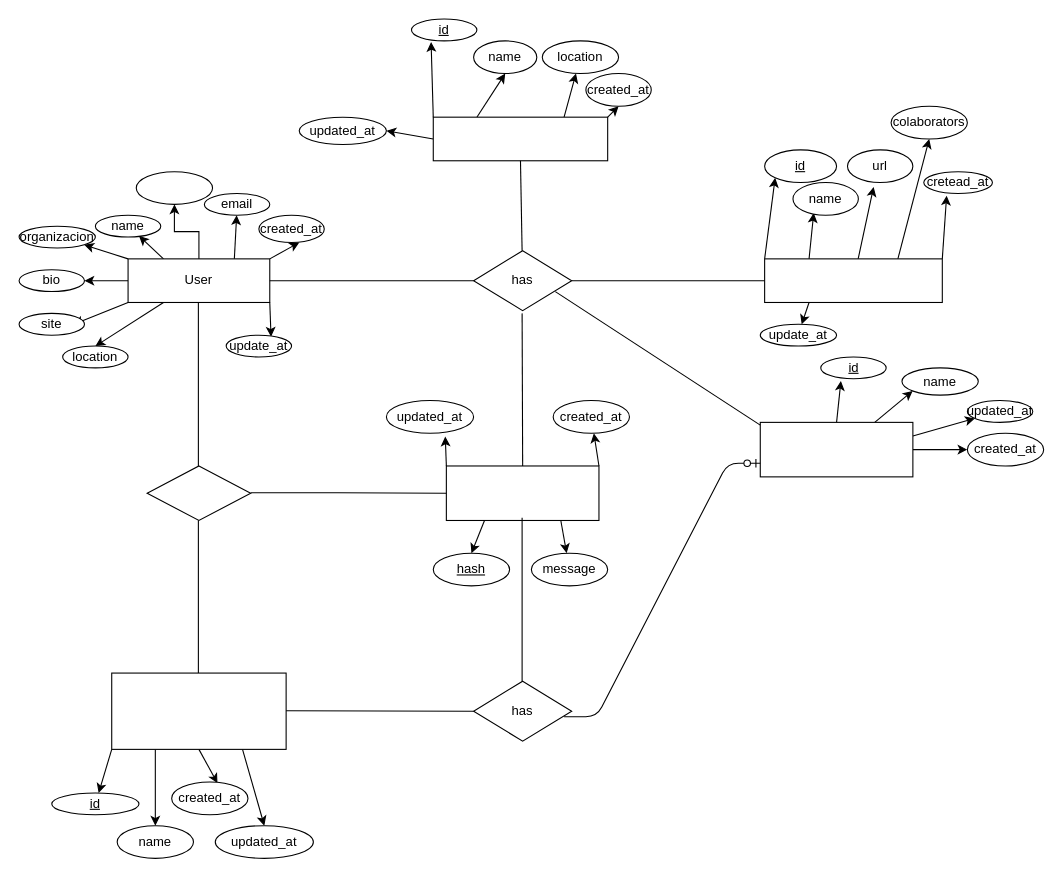
The diagram is 1063 pixels wide and 877 high, and some of its shapes have lost their labels. The shapes that lost their labels are listed below. From the top down, each one's centre as x and y in pixels, then its label:
pixel 520 138: organization
pixel 174 187: username
pixel 853 280: repository
pixel 836 449: branch
pixel 198 492: modify
pixel 522 492: commit
pixel 198 710: file
